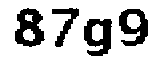7: (50, 5, 82, 50)
8: (14, 3, 45, 50)
9: (120, 9, 153, 51)
g: (84, 18, 114, 60)
